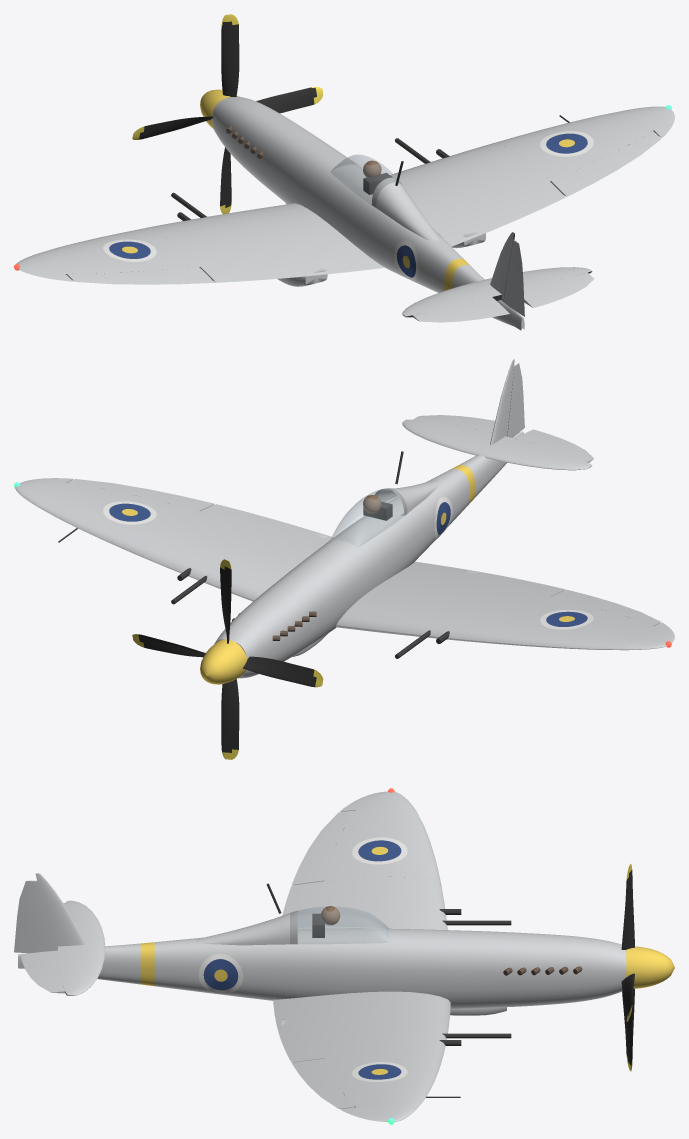
Rendered from spitfire.glb.
The picture shows the model from 3 angles, top to bottom: view 1: azimuth 30°, elevation 25°; view 2: azimuth 150°, elevation 25°; view 3: azimuth 270°, elevation 25°; orthographic projection. The views are drawn at different scales.
Parts seen in each view (by area): view 1: Fuselage, Wing_L_Inner, Wing_R_Inner, Wing_R_Outer, Wing_L_Outer, Canopy, Aileron_R, Aileron_L, Stabilizer_L, Blade_0, Elevator_L, Elevator_R (+13 smaller); view 2: Fuselage, Wing_L_Inner, Wing_R_Inner, Wing_R_Outer, Wing_L_Outer, Canopy, Stabilizer_L, Stabilizer_R, Spinner, Blade_1, Blade_2, Aileron_R (+9 smaller); view 3: Fuselage, Wing_R_Inner, Wing_L_Inner, Wing_L_Outer, Canopy, Wing_R_Outer, Rudder, Stabilizer_R, Aileron_L, Fin, Spinner, Aileron_R (+11 smaller).
Part boxes in pixels (bbox=[...]): Fuselage: bbox=[212, 96, 524, 330]; Wing_L_Inner: bbox=[146, 204, 370, 282]; Wing_R_Inner: bbox=[390, 142, 565, 246]; Wing_R_Outer: bbox=[496, 110, 653, 181]; Wing_L_Outer: bbox=[37, 228, 200, 274]; Canopy: bbox=[330, 154, 439, 241]; Aileron_R: bbox=[551, 131, 660, 196]; Aileron_L: bbox=[67, 267, 214, 284]; Stabilizer_L: bbox=[402, 280, 501, 317]; Blade_0: bbox=[221, 14, 239, 96]; Elevator_L: bbox=[413, 297, 509, 322]; Elevator_R: bbox=[523, 272, 593, 307]; Fuselage: bbox=[214, 431, 523, 678]; Wing_L_Inner: bbox=[343, 563, 565, 643]; Wing_R_Inner: bbox=[144, 504, 333, 601]; Wing_R_Outer: bbox=[36, 483, 199, 558]; Wing_L_Outer: bbox=[493, 597, 653, 650]; Canopy: bbox=[330, 480, 439, 547]; Stabilizer_L: bbox=[481, 436, 592, 470]; Stabilizer_R: bbox=[402, 419, 492, 455]; Spinner: bbox=[200, 639, 247, 684]; Blade_1: bbox=[243, 656, 323, 687]; Blade_2: bbox=[221, 679, 239, 759]; Aileron_R: bbox=[67, 479, 214, 511]; Fuselage: bbox=[18, 928, 626, 1008]; Wing_R_Inner: bbox=[273, 993, 450, 1062]; Wing_L_Inner: bbox=[282, 876, 447, 929]; Wing_L_Outer: bbox=[324, 807, 441, 885]; Canopy: bbox=[196, 906, 389, 945]; Wing_R_Outer: bbox=[324, 1053, 441, 1108]; Rudder: bbox=[14, 880, 53, 953]; Stabilizer_R: bbox=[58, 944, 105, 995]; Aileron_L: bbox=[291, 810, 355, 885]; Fin: bbox=[35, 873, 85, 950]; Spinner: bbox=[626, 946, 674, 988]; Aileron_R: bbox=[292, 1058, 355, 1108].
Bounding box in the file's own units: 11.28 × 3.26 × 9.48.
